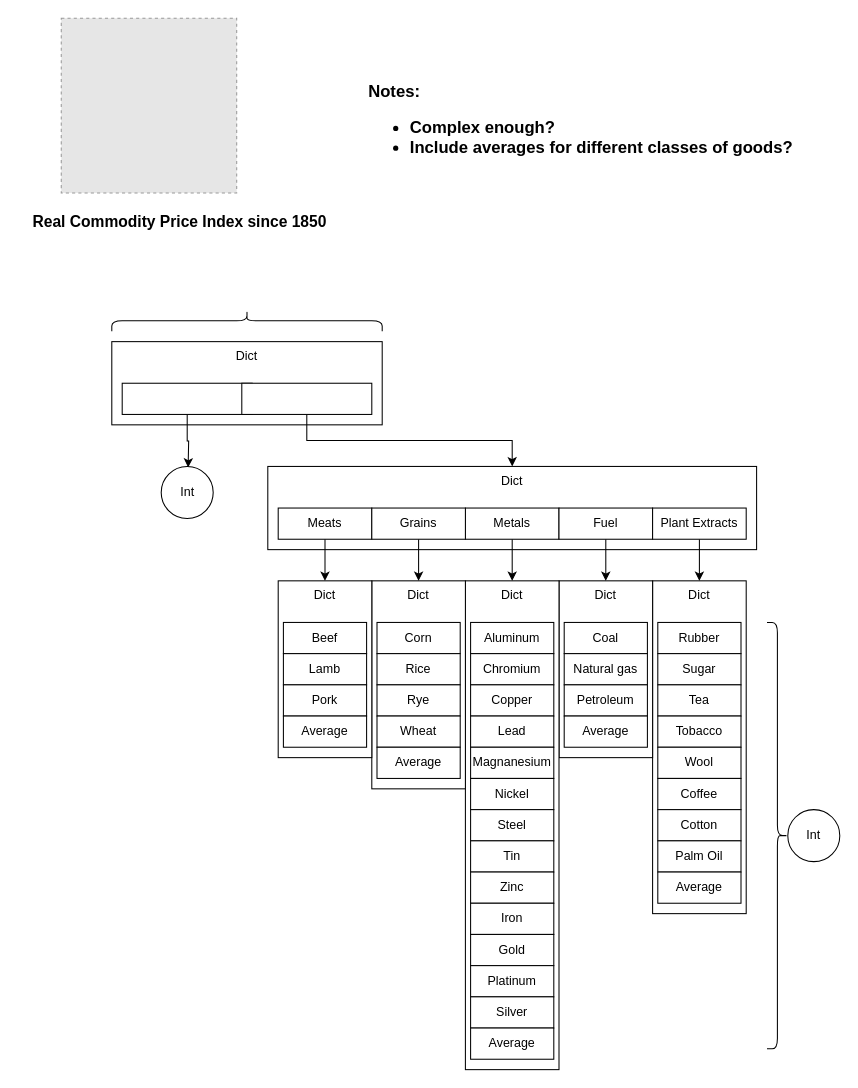
Image size: 858x1088. Some labels were removed from this diagram. Grey dashed boxes stand in for pictures. Here are the shapes that lost their labels. From the top down, the centre of each, then its label:
At pixel 246 320: "List of:".
At pixel 186 398: "Year".
At pixel 306 398: "Data".
